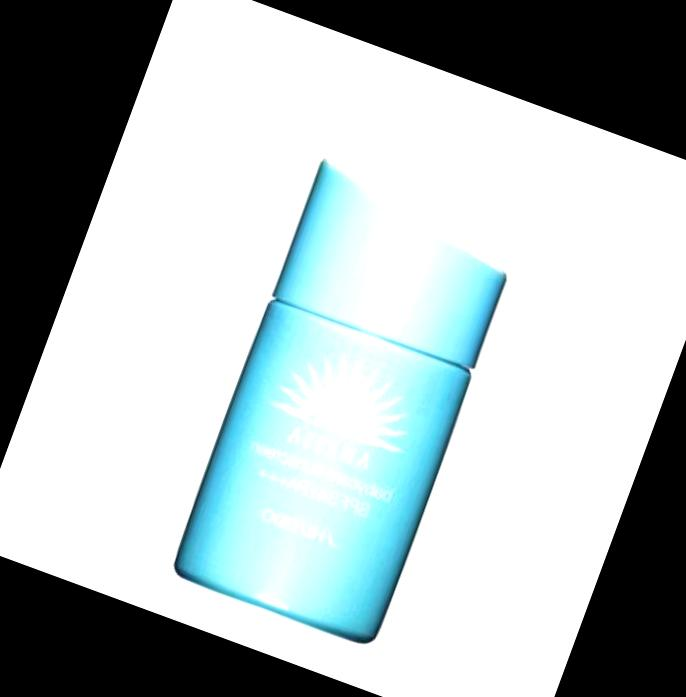cosmetic: (163, 152, 527, 649)
